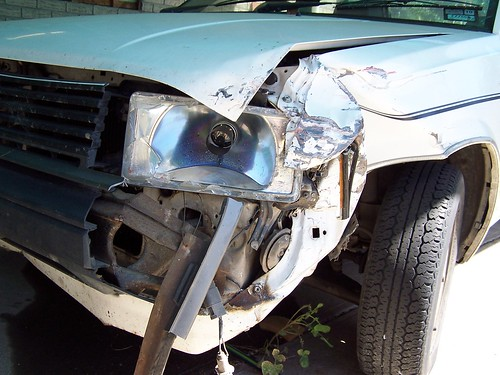car: (6, 1, 500, 375)
